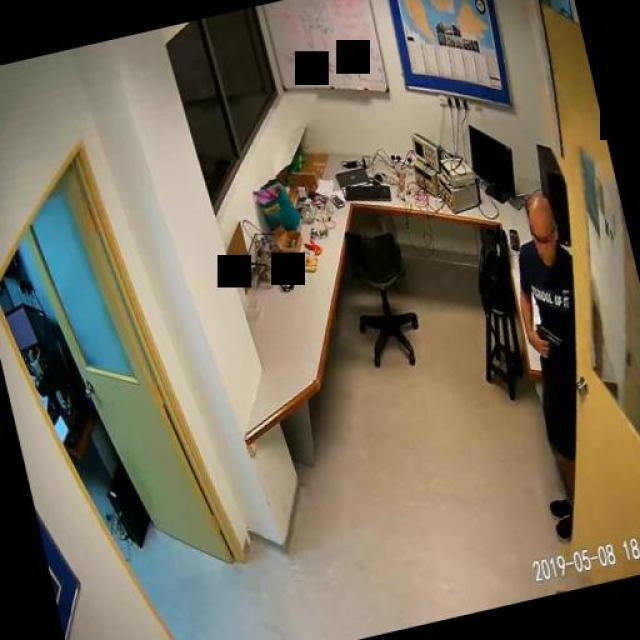gun: (529, 314, 565, 361)
